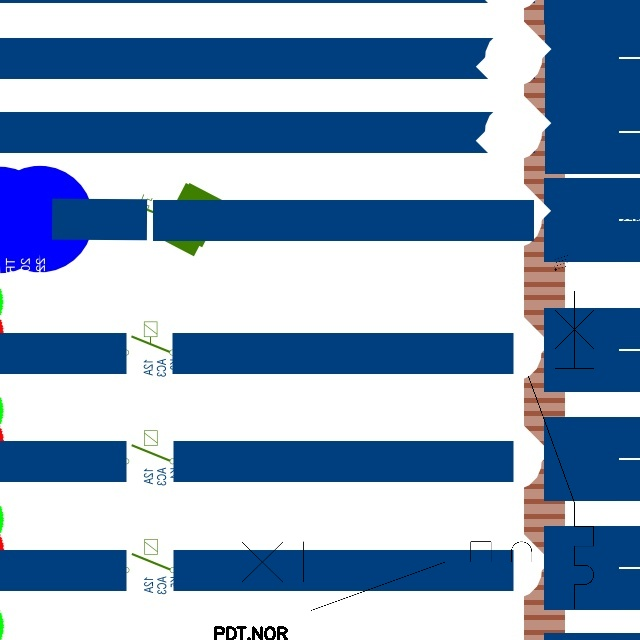interruptor_termomagnetico: (213, 533, 566, 619), (520, 282, 602, 616)
